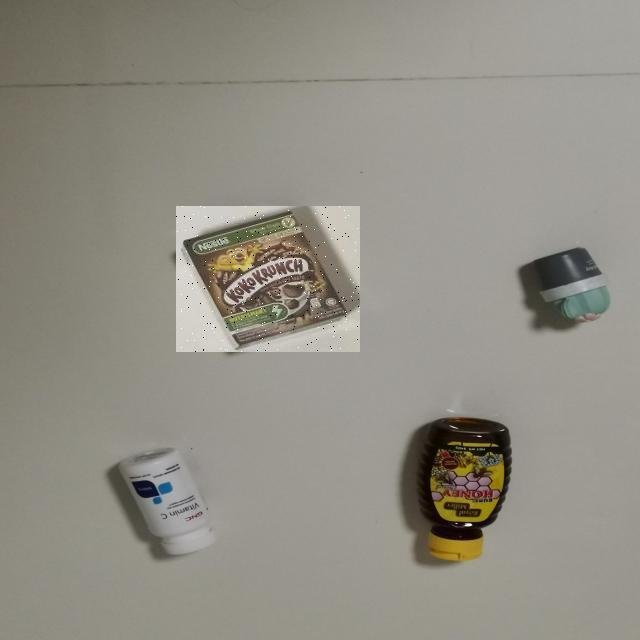Cereal: (176, 206, 360, 352)
